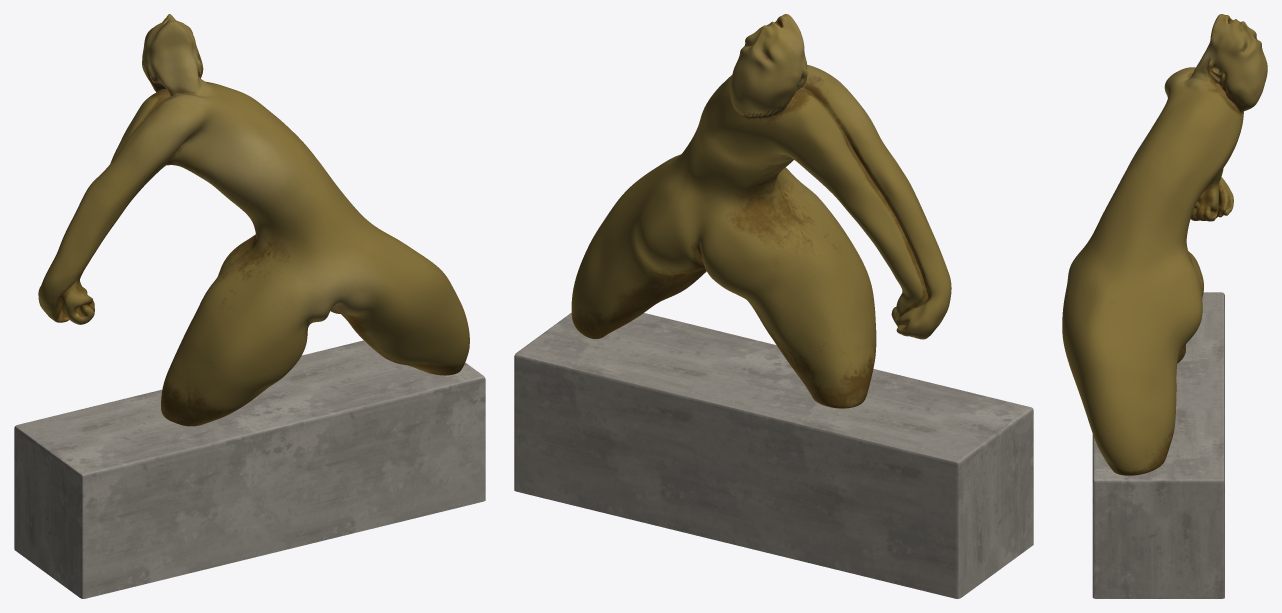
The model's file is Invocation.glb.
3 views of the same model, side by side, from view 1: azimuth 30°, elevation 25°; view 2: azimuth 150°, elevation 25°; view 3: azimuth 270°, elevation 25° (orthographic). The views are drawn at different scales.
Visible parts, largest first — view 1: Recovered_Tool1; view 2: Recovered_Tool1; view 3: Recovered_Tool1.
Boxes of the visible parts, x1,y1,x2,y2 form: Recovered_Tool1: (14, 14, 485, 598); Recovered_Tool1: (514, 14, 1033, 598); Recovered_Tool1: (1062, 14, 1267, 598).
Size of the model in its own units: 7.85 by 9.08 by 3.61.
1 material, 1 textured.
